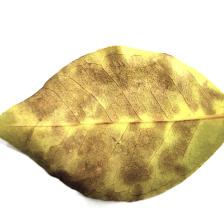black spot: (45, 74, 192, 172)
